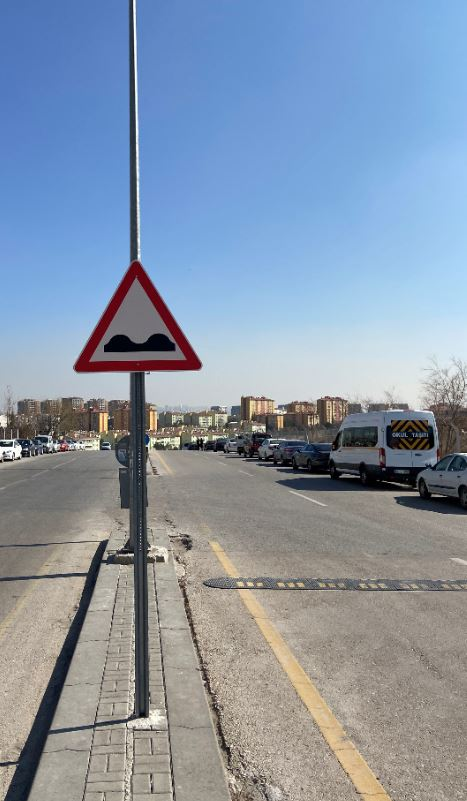Kasisli Yol: (68, 257, 204, 378)
